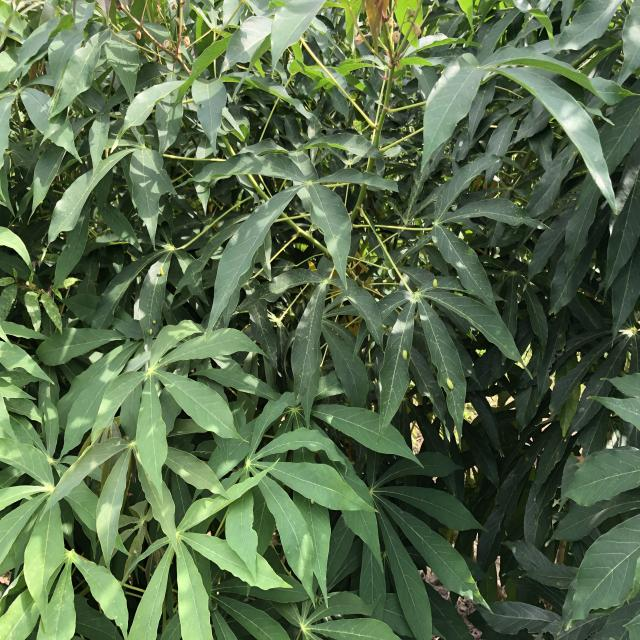Mosca: (143, 316, 160, 340), (399, 343, 413, 365), (151, 264, 167, 280), (444, 374, 454, 398), (306, 494, 320, 508), (430, 275, 442, 291), (464, 226, 475, 242)
